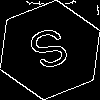S: (25, 25, 78, 81)
